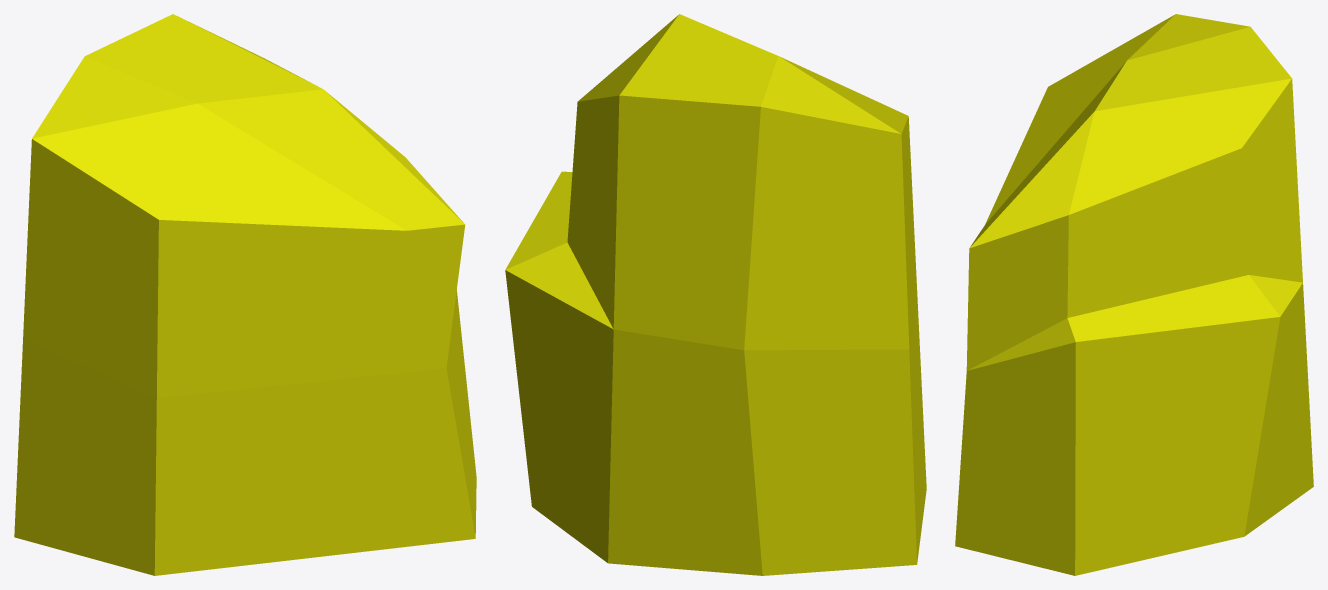
3 views of the same model, side by side, from view 1: azimuth 30°, elevation 25°; view 2: azimuth 150°, elevation 25°; view 3: azimuth 270°, elevation 25° (orthographic). The views are drawn at different scales.
Visible parts, largest first — view 1: rock_04; view 2: rock_04; view 3: rock_04.
Part boxes in pixels (<box>): rock_04: <box>14,14,476,575</box>; rock_04: <box>505,14,926,575</box>; rock_04: <box>955,14,1313,575</box>.
Size of the model in its own units: 6.34 by 6.34 by 5.04.
Materials: 1 (1 with a texture image).
